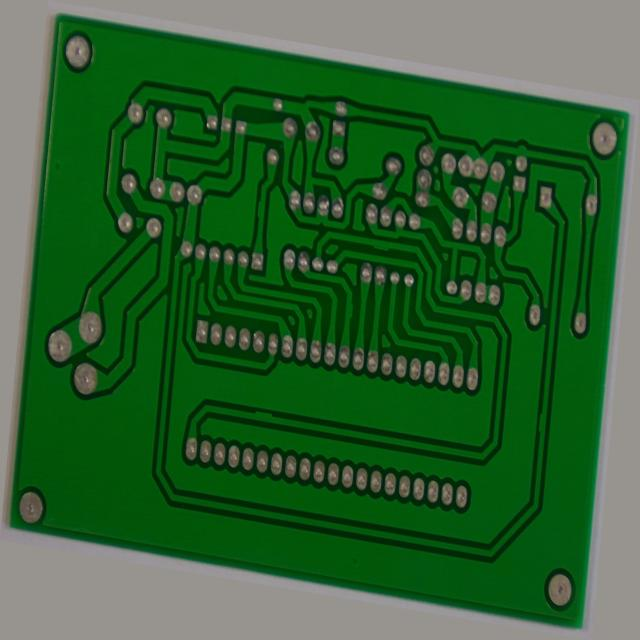spur: (255, 429, 281, 451), (366, 209, 389, 232), (240, 185, 253, 221), (560, 380, 573, 414), (342, 288, 357, 313)
